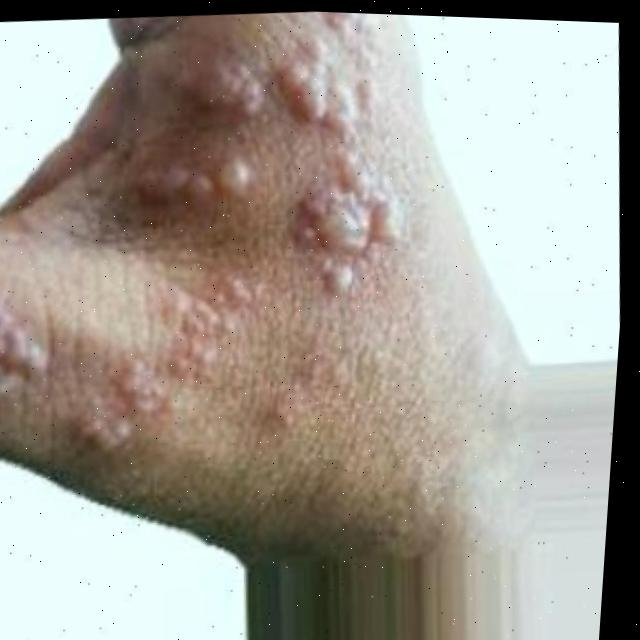Shingles: (47, 3, 434, 475), (0, 289, 61, 414)
